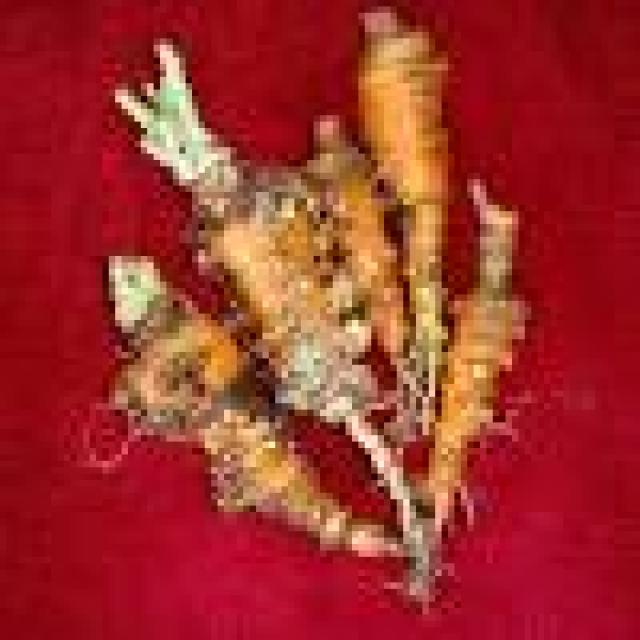Stale_Carrot: (358, 7, 448, 370)
